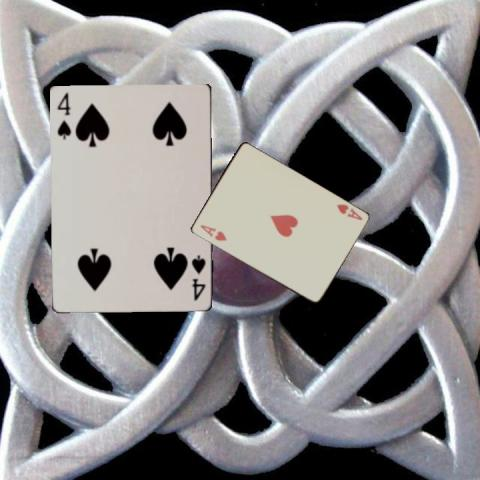4s: (55, 91, 73, 141), (190, 252, 207, 302)
Ah: (197, 221, 228, 243), (334, 201, 364, 222)
